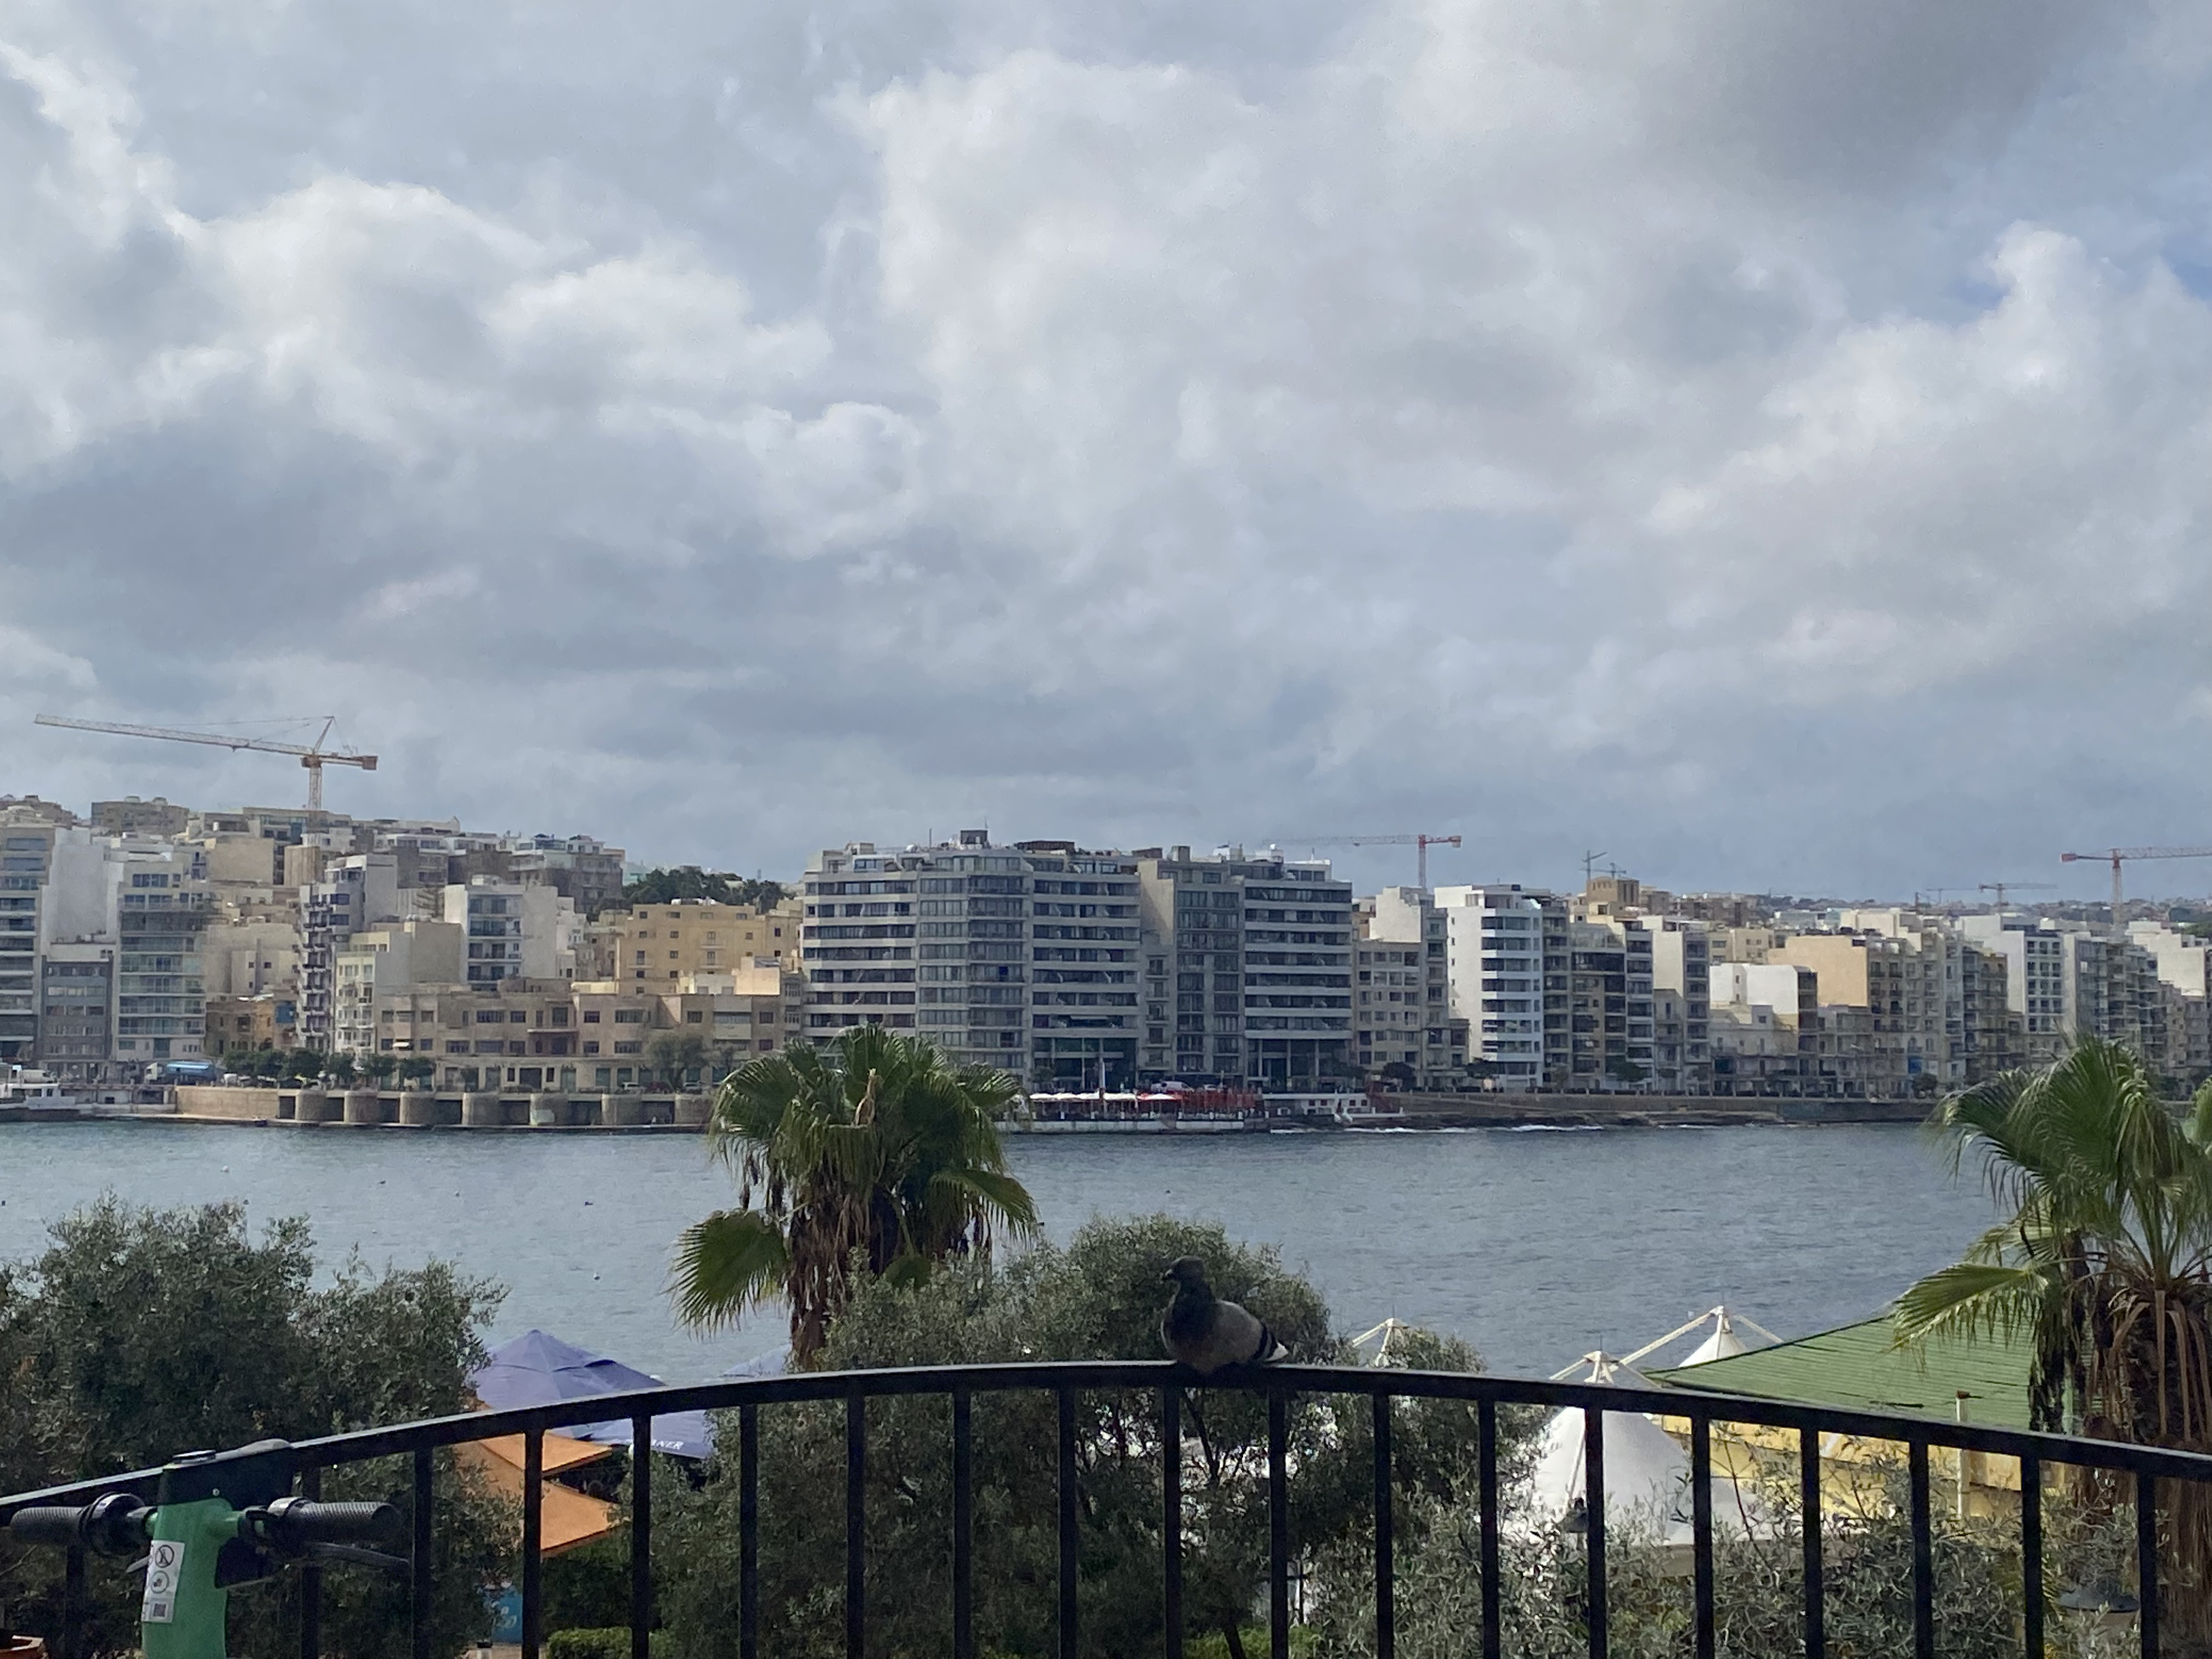crane: (11, 671, 416, 803)
